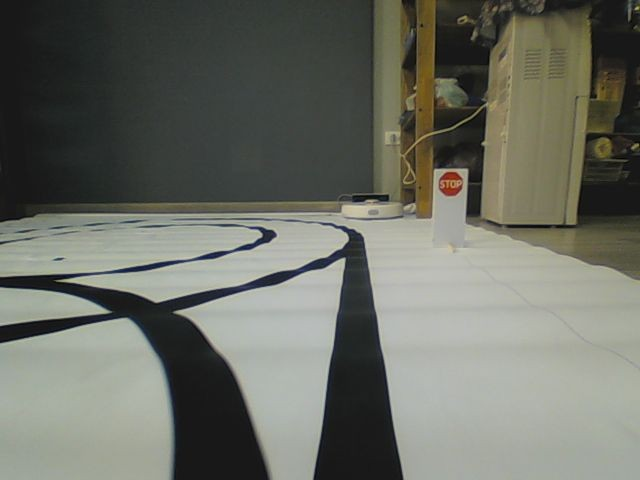Stop: (437, 171, 463, 196)
